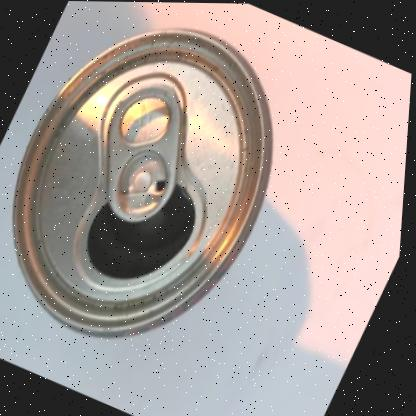Metal: (14, 27, 274, 337)
